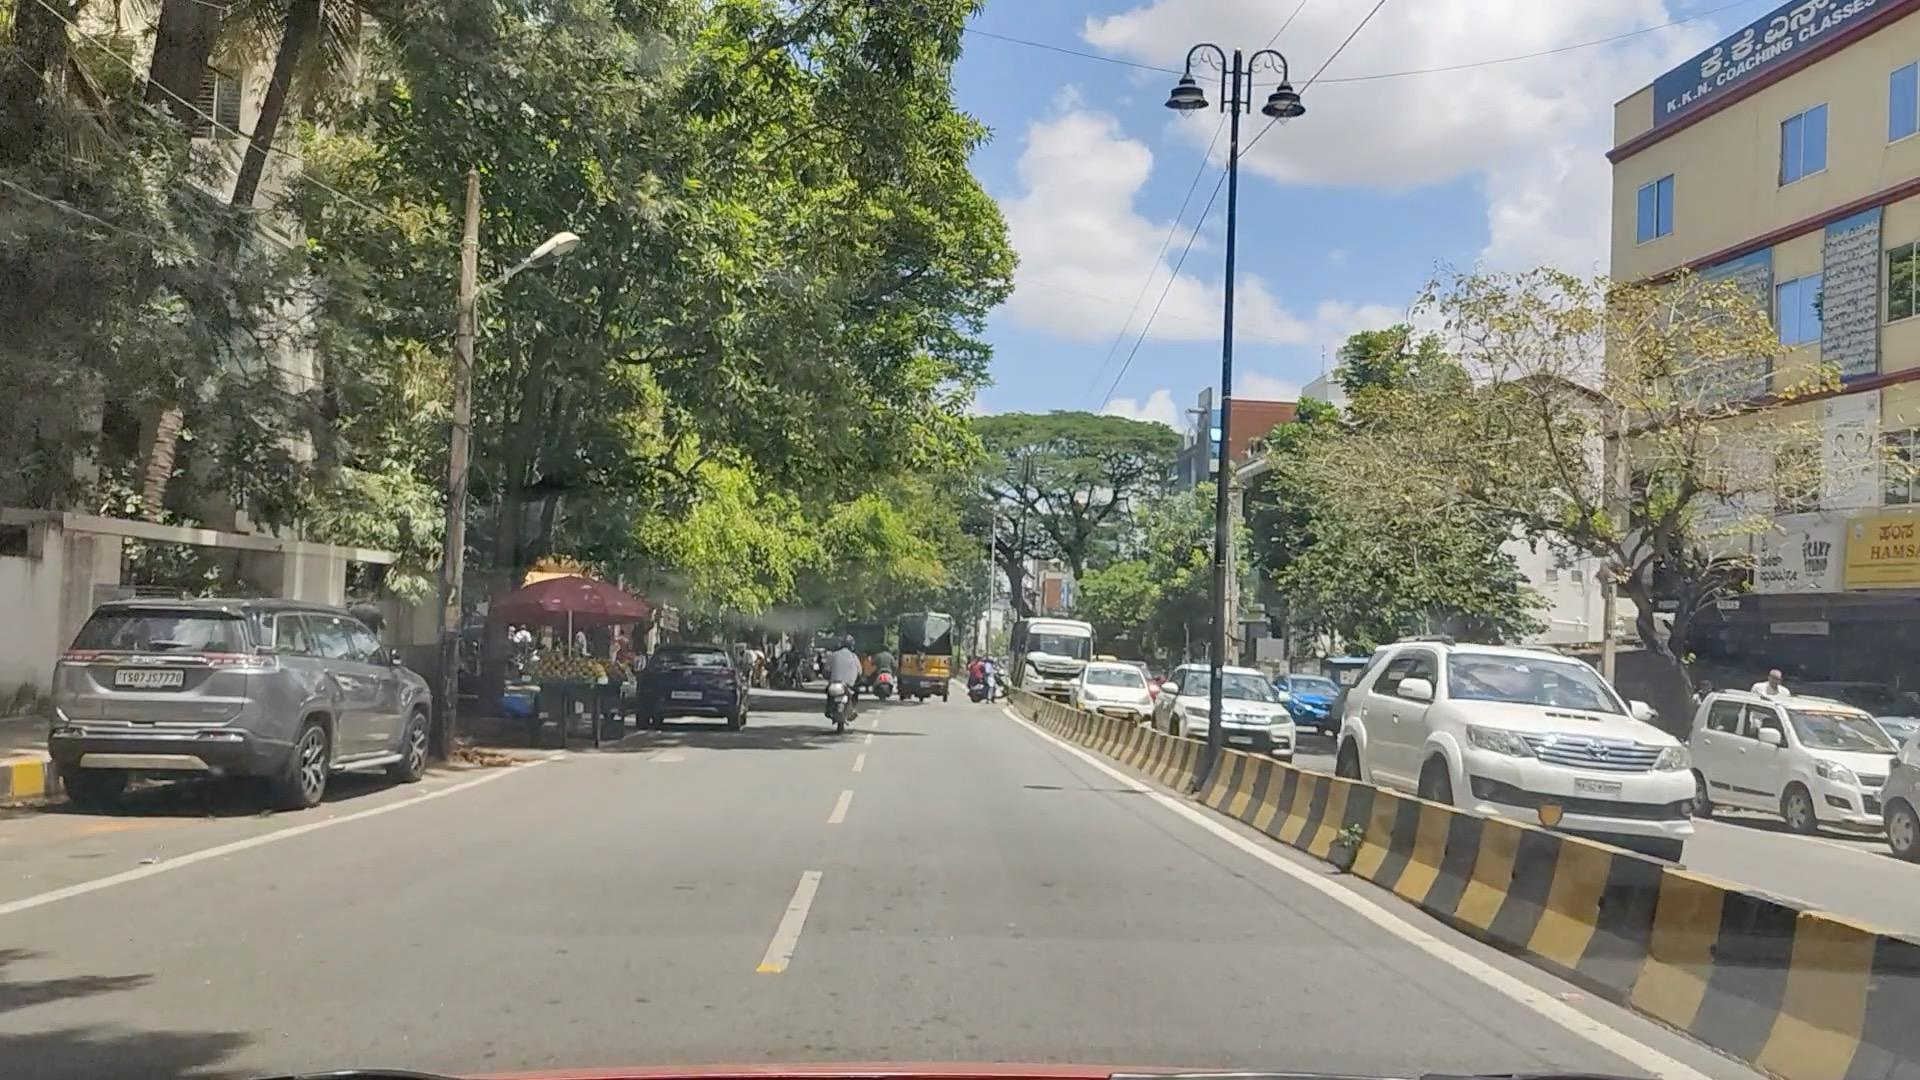LMV: (49, 537, 323, 845), (637, 646, 760, 723), (810, 630, 873, 757)
